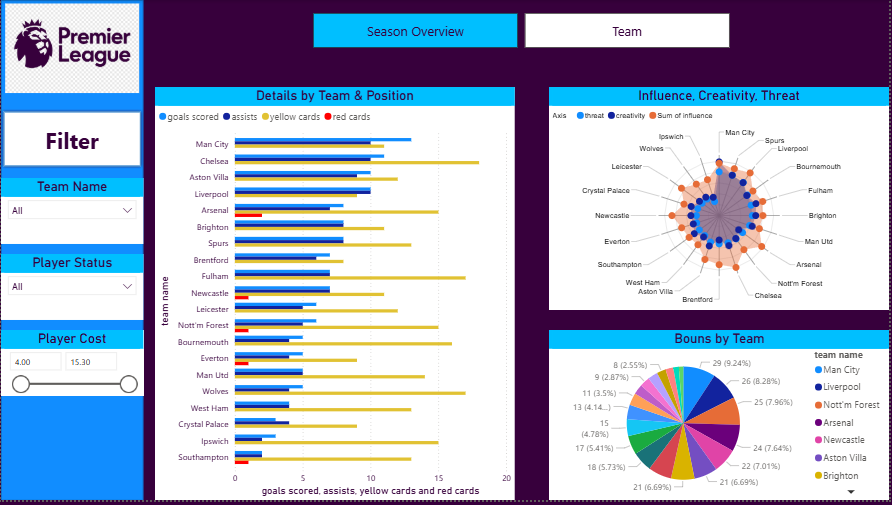

Layout of this report page (visuals, bound fields, positions):
{"tool":"powerbi","page":{"name":"Team","canvas":[1280,720],"ordinal":1},"visuals":[{"type":"shape","box":[0,0,204.9,720.6],"z":0},{"type":"image","box":[0,0,204.9,139.4],"z":1000},{"type":"clusteredBarChart","title":"Details by Team & Position","fields":{"Category":["Gold DimTeam.team_name","Gold DimPlayer.player_position","Gold DimPlayer.Full Name"],"Y":["Sum(Gold FactPlayerStats.goals_scored)","Sum(Gold FactPlayerStats.assists)","Sum(Gold FactPlayerStats.yellow_cards)","Sum(Gold FactPlayerStats.red_cards)"]},"box":[221.1,125.1,517.8,594.9],"z":2000},{"type":"RadarChart1446119667547","title":"Influence, Creativity, Threat","fields":{"Y":["Sum(Gold FactPlayerStats.threat)","Sum(Gold FactPlayerStats.creativity)","Sum(Gold FactPlayerStats.influence)"],"Category":["Gold DimTeam.team_name"]},"box":[789.8,125.1,490.2,321.5],"z":3000},{"type":"slicer","title":"Team Name","fields":{"Values":["Gold DimTeam.team_name"]},"box":[0,256.5,204.9,95.3],"z":4000},{"type":"slicer","title":"Player Status","fields":{"Values":["Gold DimPlayer.status"]},"box":[0,365.5,204.9,95.3],"z":5000},{"type":"slicer","title":"Player Cost","fields":{"Values":["Gold FactPlayerStats.player_cost"]},"box":[0,474.6,204.9,95.3],"z":6000},{"type":"shape","title":"dfg","box":[0,156.4,204.9,86.3],"z":7000},{"type":"pageNavigator","box":[449.3,18.7,600.5,50.4],"z":8000},{"type":"pieChart","title":"Bouns by Team","fields":{"Category":["Gold DimTeam.team_name","Gold DimPlayer.Full Name"],"Y":["Sum(Gold FactPlayerStats.bouns)"]},"box":[789.2,474.6,490.8,246.3],"z":9000}]}

Visuals, with their boxes in screenshot pixels (x1, y1, x2, y2), scaled from the page's 1280x720 canvas onto the 892x505 screenshot:
shape: <box>0,0,143,504</box>
image: <box>0,0,143,98</box>
"Details by Team & Position" clusteredBarChart: <box>154,88,515,504</box>
"Influence, Creativity, Threat" RadarChart1446119667547: <box>550,88,891,313</box>
"Team Name" slicer: <box>0,180,143,247</box>
"Player Status" slicer: <box>0,256,143,323</box>
"Player Cost" slicer: <box>0,333,143,400</box>
"dfg" shape: <box>0,110,143,170</box>
pageNavigator: <box>313,13,732,48</box>
"Bouns by Team" pieChart: <box>550,333,891,504</box>
